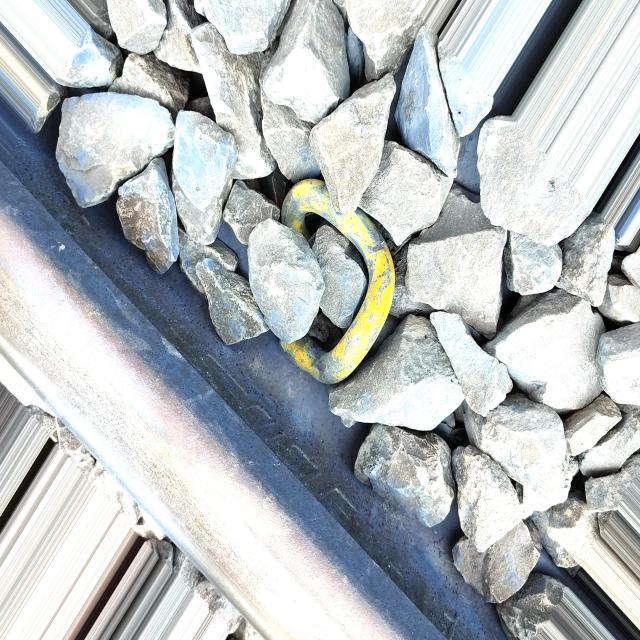Good Fasteners: (281, 179, 395, 384)
